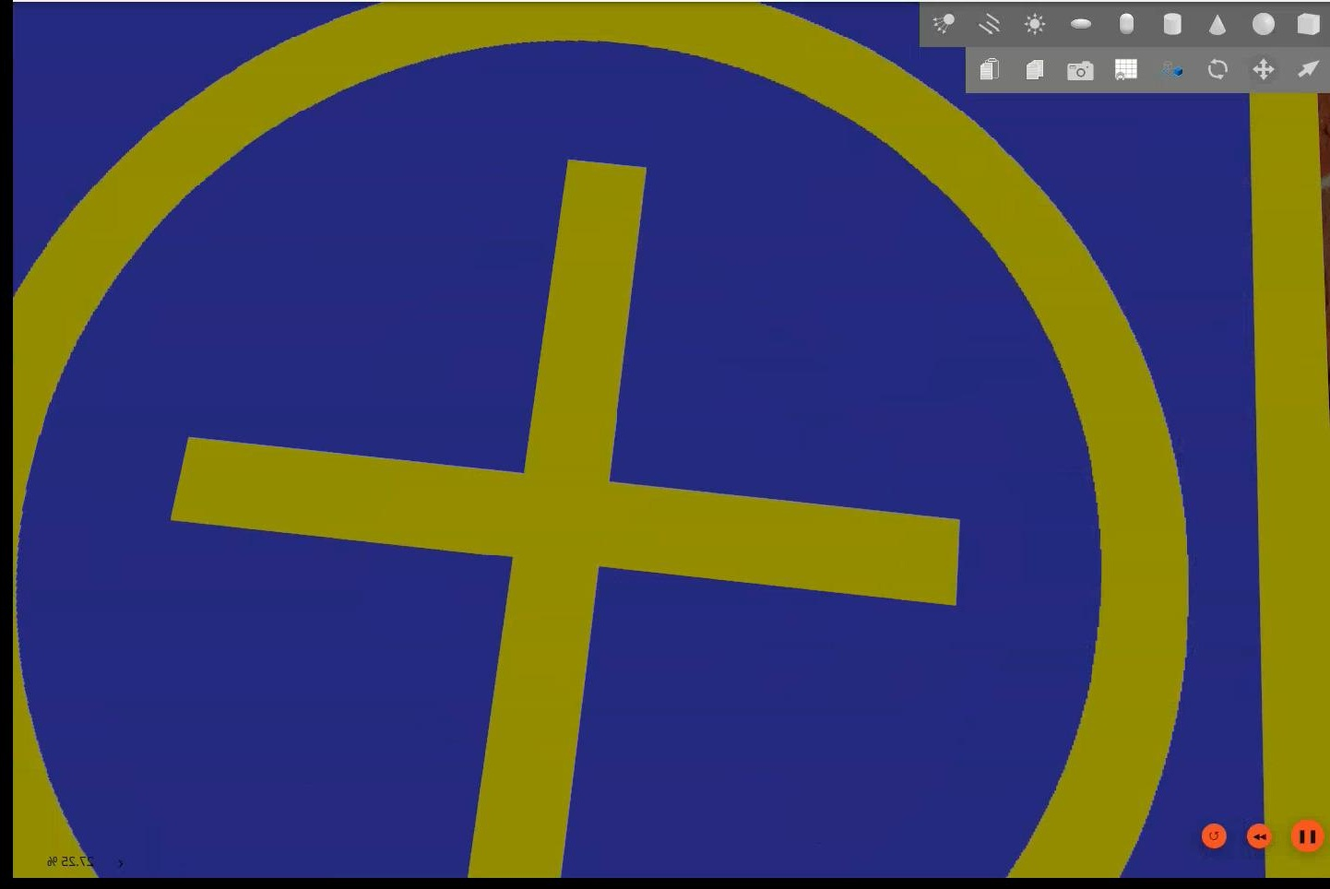small_base: (12, 5, 1328, 876)
